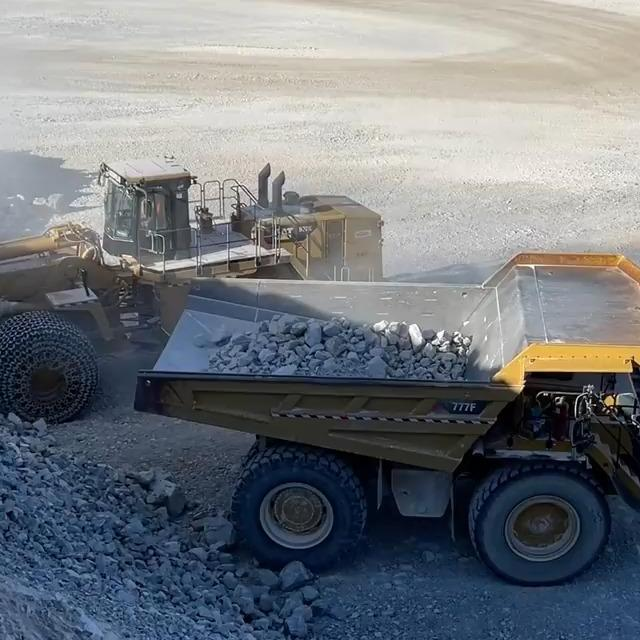dump truck: (132, 245, 640, 585)
wheel loader: (0, 150, 396, 427)
